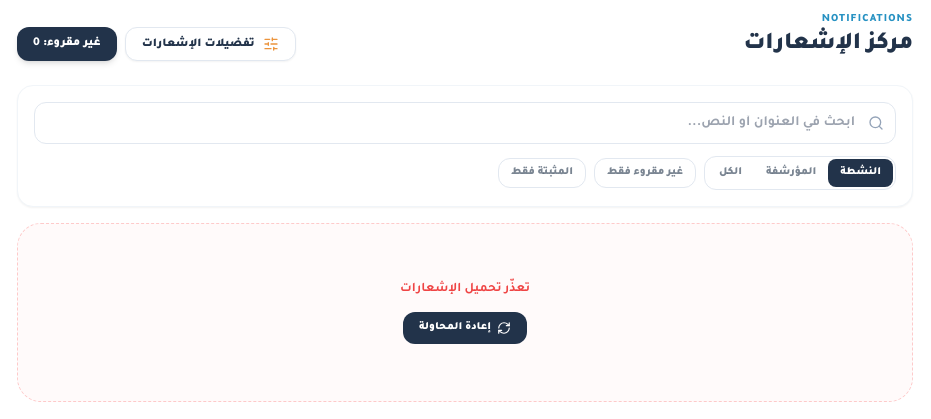
Test: NotificationsCenterPage — loading/empty/error › shows an error state with a retry button when the fetch fails, and retry re-fetches
Check: the text "تعذّر تحميل الإشعارات" is shown, box 400,283 -> 530,296
Click the button "إعادة المحاولة".
click(465, 328)  # box 403,312 -> 527,344
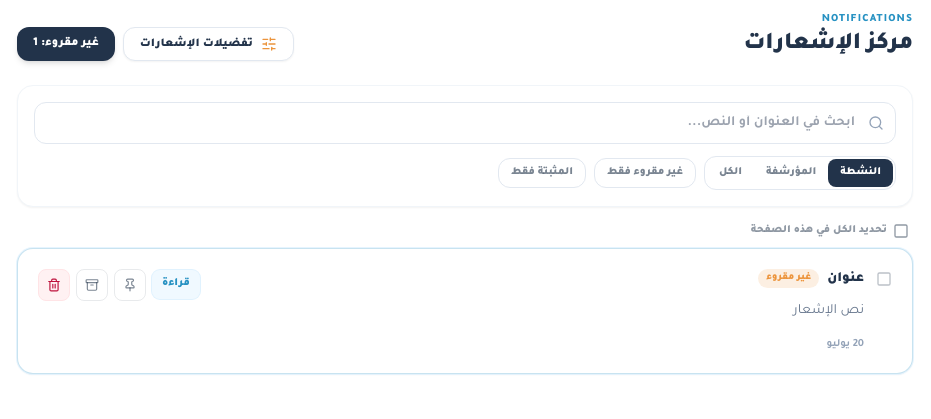
Check: the text "عنوان" is shown, box 827,268 -> 864,288
